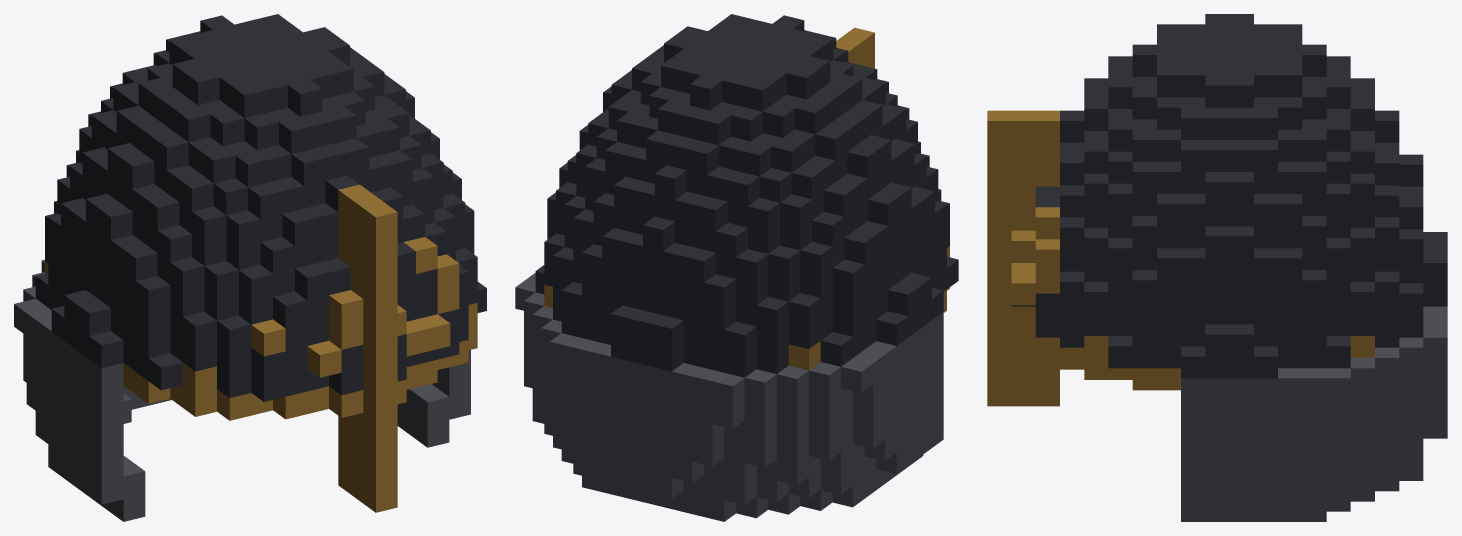
File: nasal_helm_lod1.glb
3 views of the same model, side by side, from view 1: azimuth 30°, elevation 25°; view 2: azimuth 150°, elevation 25°; view 3: azimuth 270°, elevation 25° (orthographic). The views are drawn at different scales.
Parts seen in each view (by area): view 1: nasal_helm_lod1; view 2: nasal_helm_lod1; view 3: nasal_helm_lod1.
Boxes of the visible parts, bbox=[...] form: nasal_helm_lod1: bbox=[14, 14, 486, 521]; nasal_helm_lod1: bbox=[515, 14, 958, 521]; nasal_helm_lod1: bbox=[987, 14, 1447, 521].
Bounding box in the file's own units: 0.408 × 0.432 × 0.456.
